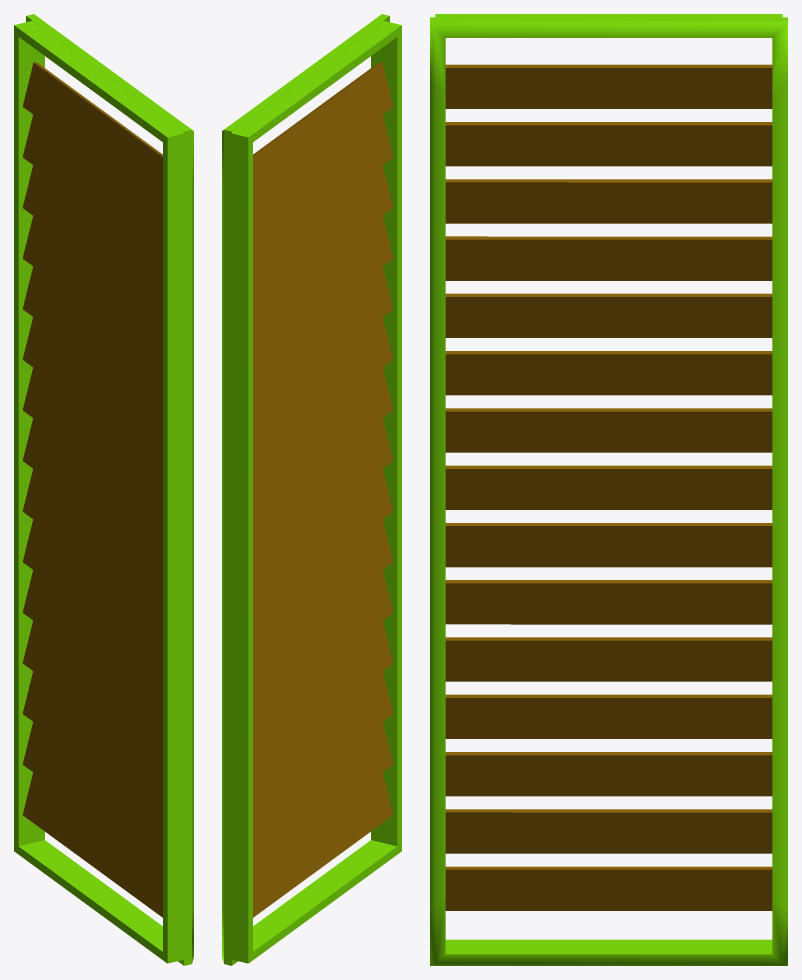
Rendered from AerationDoor_V1.0.fbx.
3 views of the same model, side by side, from view 1: azimuth 30°, elevation 25°; view 2: azimuth 150°, elevation 25°; view 3: azimuth 270°, elevation 25° (orthographic). The views are drawn at different scales.
Visible parts, largest first — view 1: polySurface19; view 2: polySurface19; view 3: polySurface19.
Part boxes in pixels (left/top/right/bottom): polySurface19: left=14, top=14, right=193, bottom=965; polySurface19: left=222, top=14, right=401, bottom=965; polySurface19: left=430, top=14, right=787, bottom=965.
Bounding box in the file's own units: 10 × 303 × 104.
